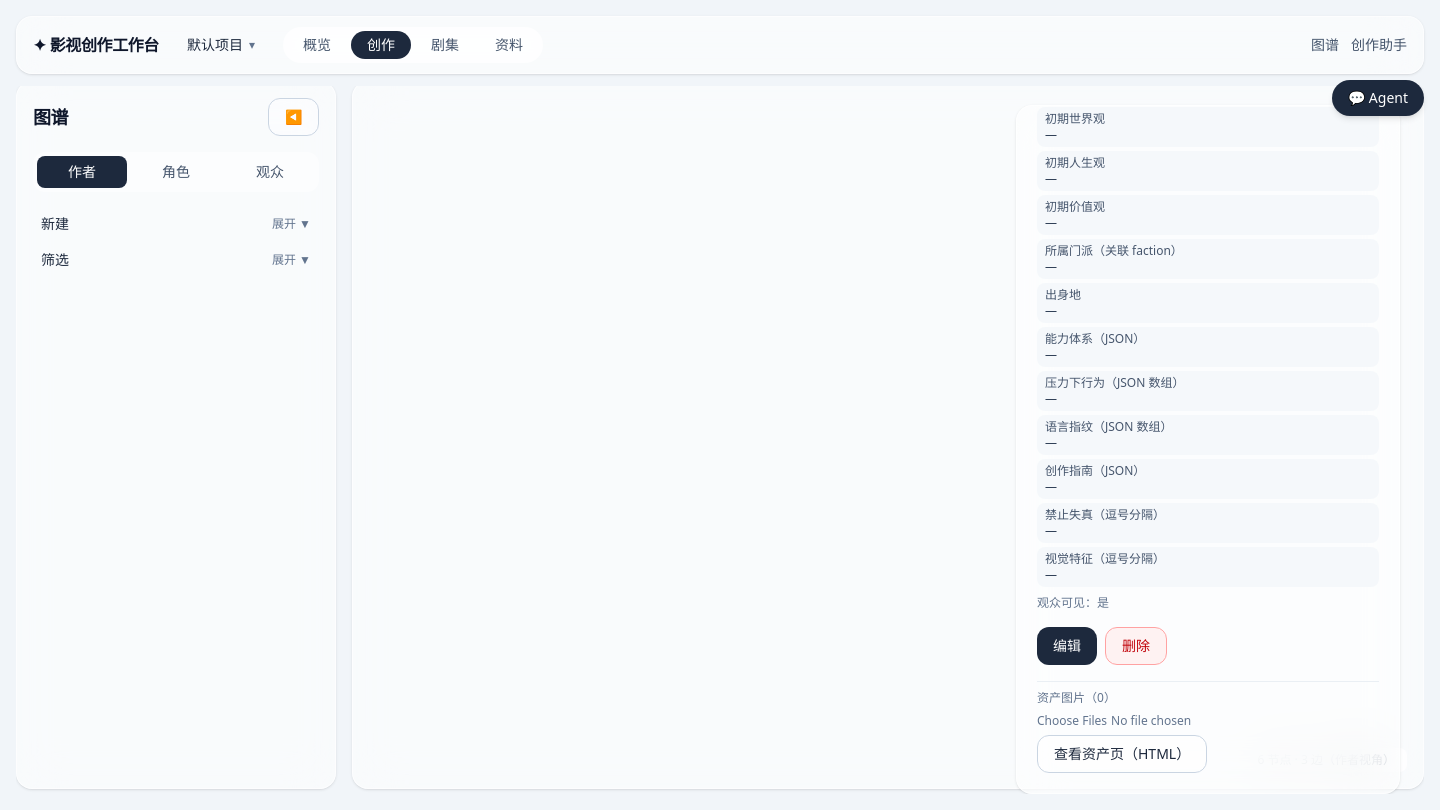
Scenario: Workbench 集成（I1–I8） › I6: 删除无引用实体成功；被引用实体 409 展示后端三要素
The image size is (1440, 810).
(page scrolled)
Check: the text with test id "graph-stats" shows "6 节点 · 3 边", box x1=1246 y1=748 x2=1407 y2=772
Click the button "删除" at (1136, 646), box x1=1105 y1=627 x2=1167 y2=665
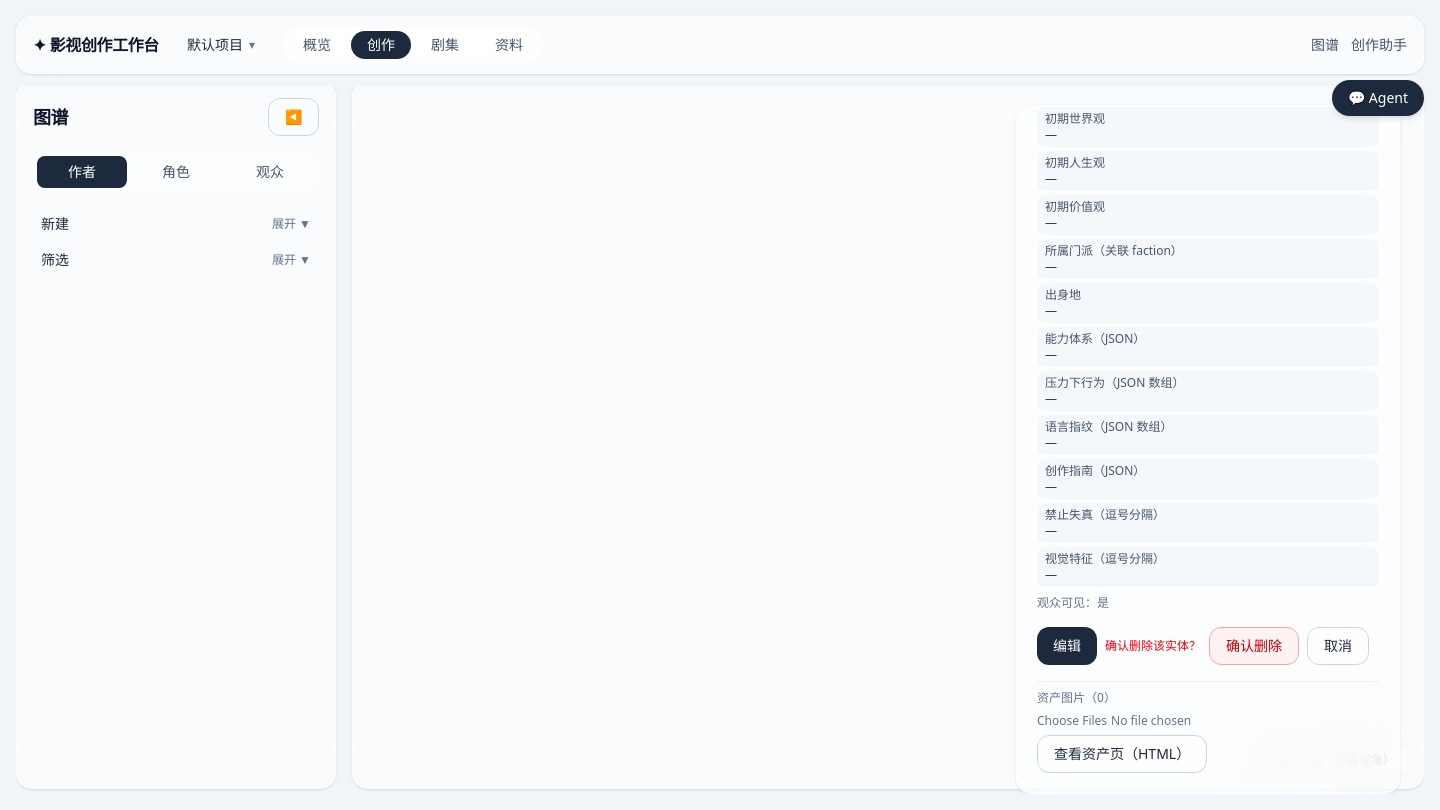
Click the button "确认删除" at (1254, 646), box x1=1209 y1=627 x2=1299 y2=665
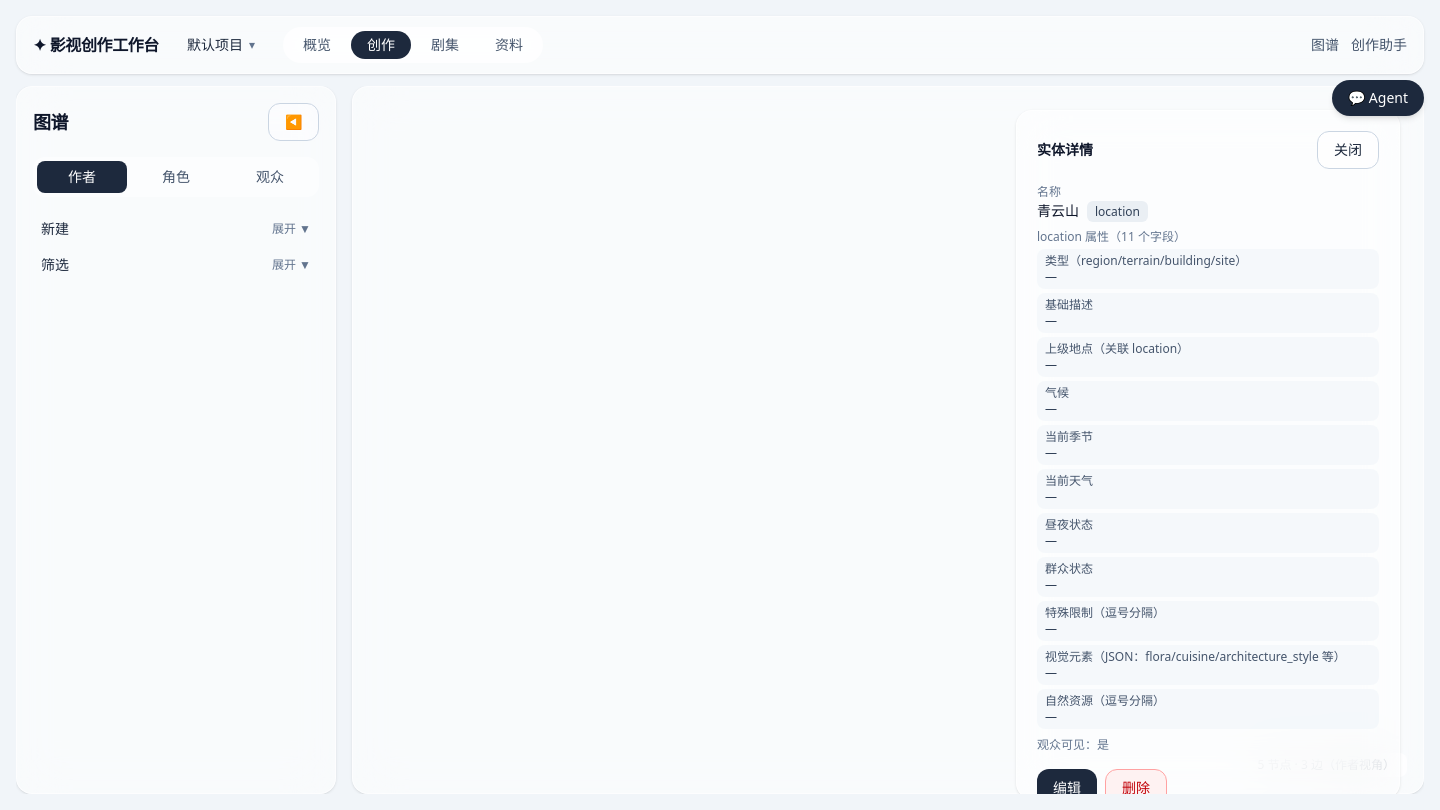
Check: the text with test id "graph-stats" shows "5 节点", box x1=1246 y1=753 x2=1407 y2=777
Click the button "删除" at (1136, 788), box x1=1105 y1=769 x2=1167 y2=807
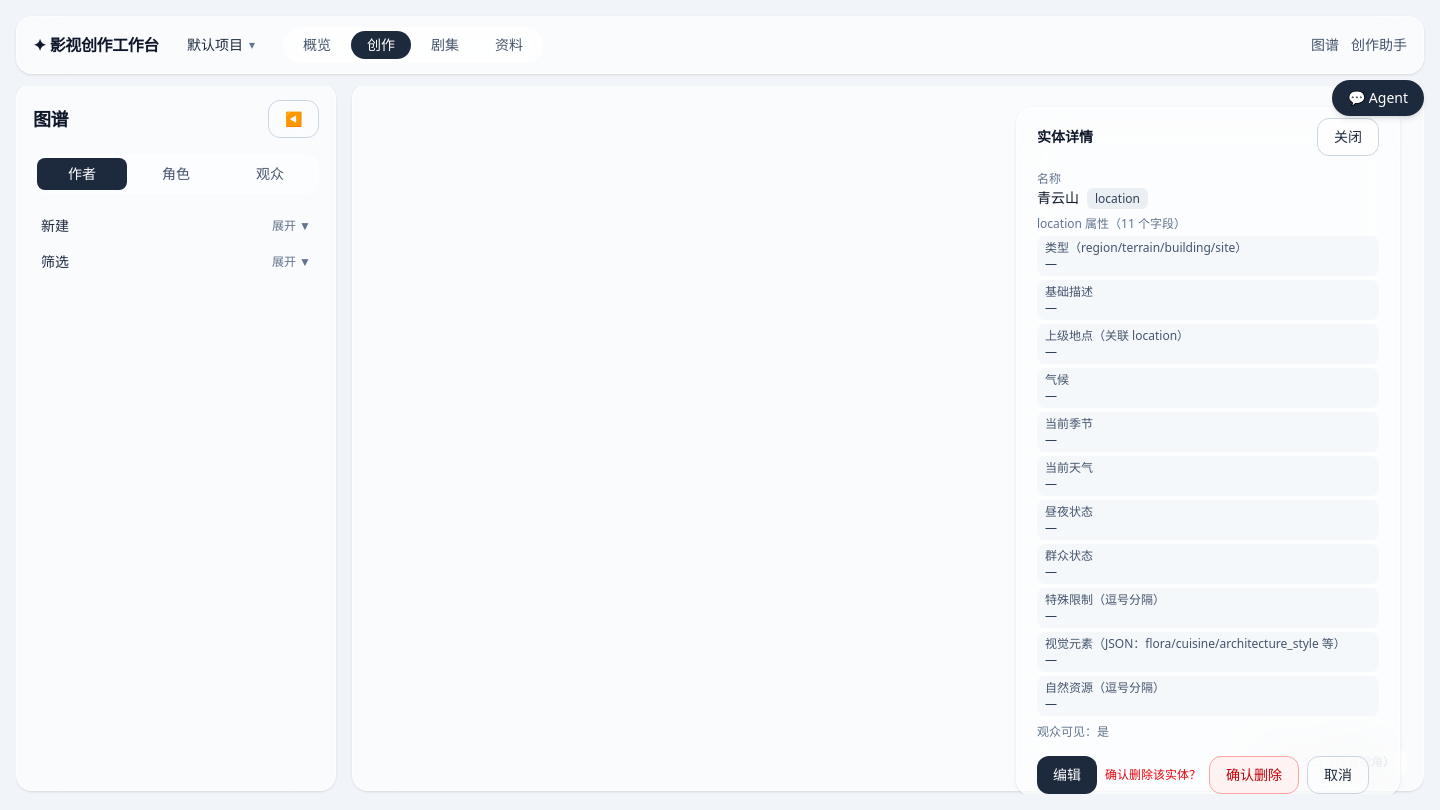
Click the button "确认删除" at (1254, 775), box x1=1209 y1=756 x2=1299 y2=794
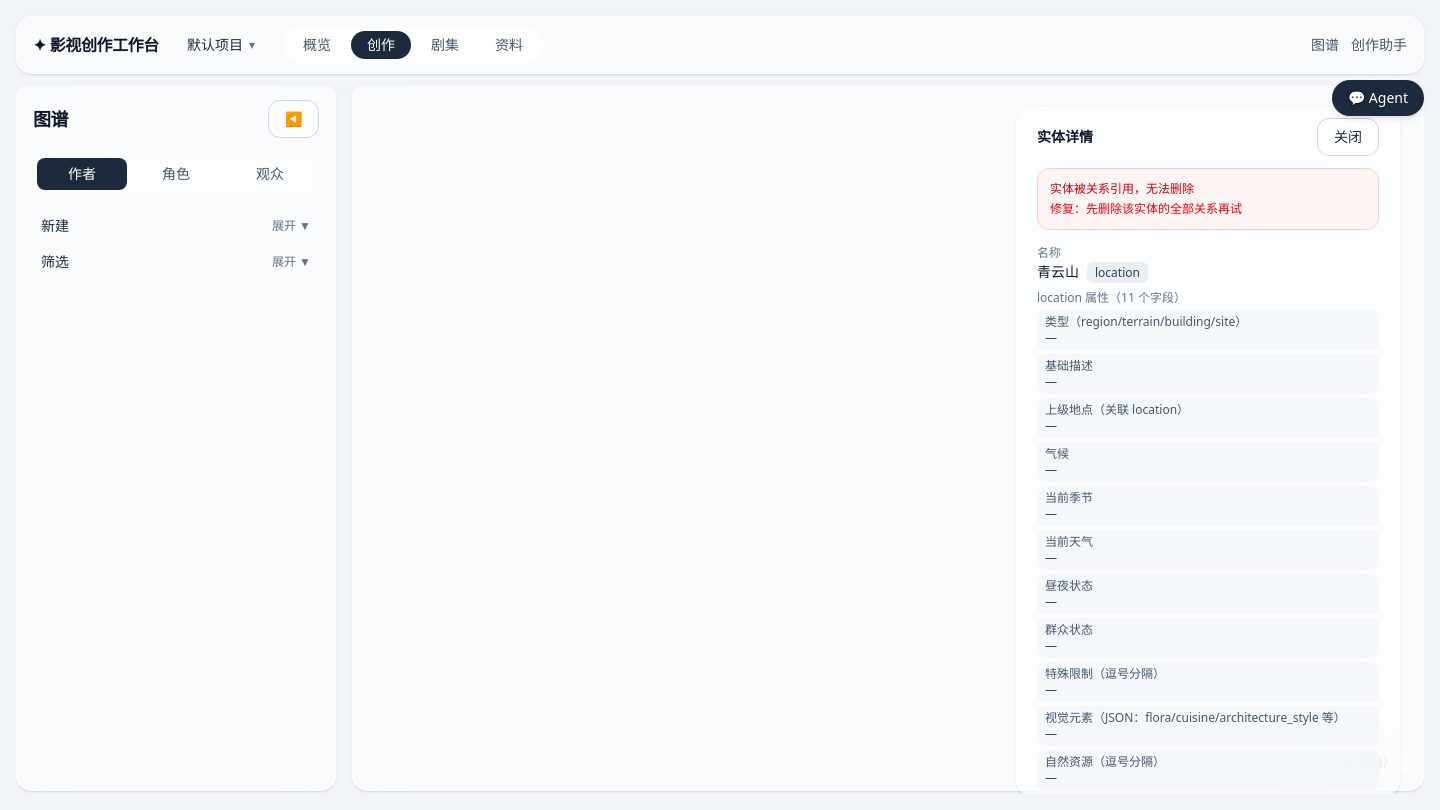
Check: the text with test id "graph-stats" shows "5 节点", box x1=1246 y1=750 x2=1407 y2=774
Check: the message shows "实体被关系引用，无法删除", box x1=1050 y1=180 x2=1194 y2=197
Check: the message shows "先删除该实体的全部关系再试", box x1=1086 y1=200 x2=1242 y2=217
